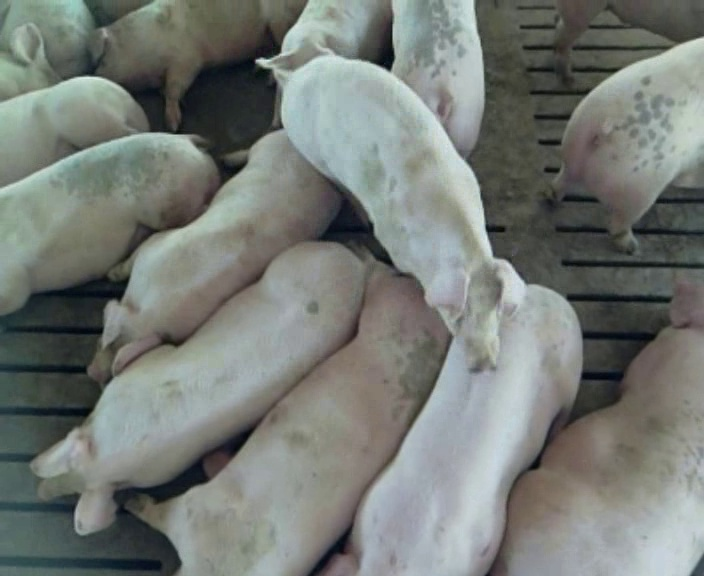pig: (126, 240, 446, 573), (32, 242, 363, 534), (273, 56, 524, 370), (319, 285, 580, 575), (88, 130, 340, 382), (493, 277, 703, 574), (0, 134, 218, 314), (552, 38, 703, 252), (91, 1, 304, 130), (0, 76, 148, 186), (392, 2, 484, 156), (554, 1, 703, 84), (0, 2, 94, 78), (0, 23, 60, 100)
